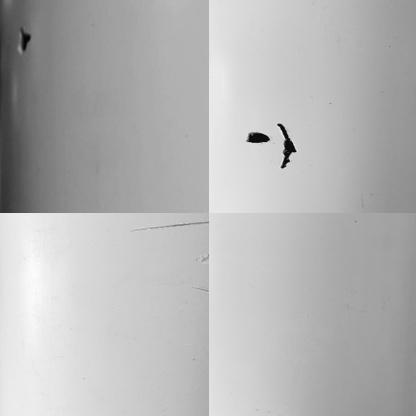kongdong: (276, 122, 300, 170), (9, 28, 34, 57), (246, 128, 270, 145)
sunshang: (131, 219, 210, 235)
